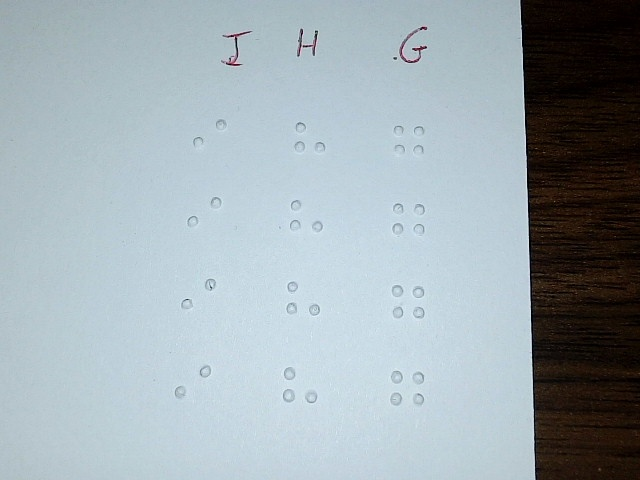G: (391, 116, 427, 172), (390, 194, 426, 250), (391, 277, 427, 333), (390, 364, 426, 420)
H: (282, 358, 319, 418), (292, 113, 328, 169), (288, 192, 324, 248), (285, 273, 321, 329)
I: (180, 268, 217, 326), (174, 357, 212, 413), (192, 110, 228, 166), (187, 188, 223, 244)
